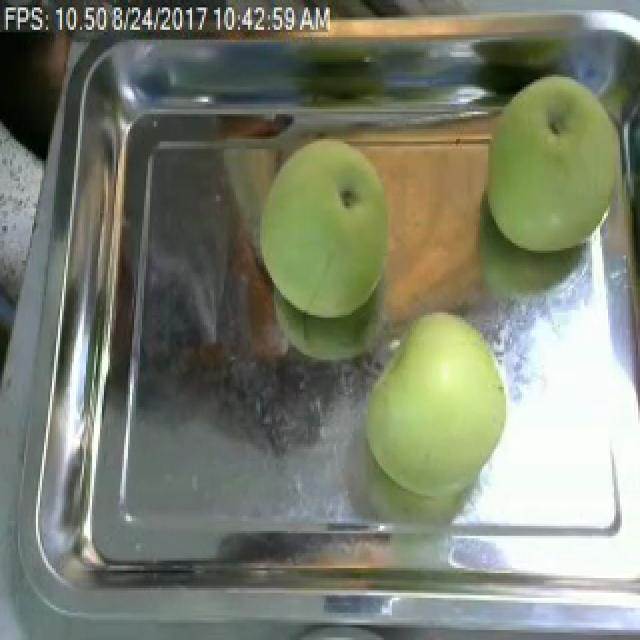50-_ripeness: (368, 317, 514, 491), (488, 72, 617, 250), (261, 140, 387, 309)
